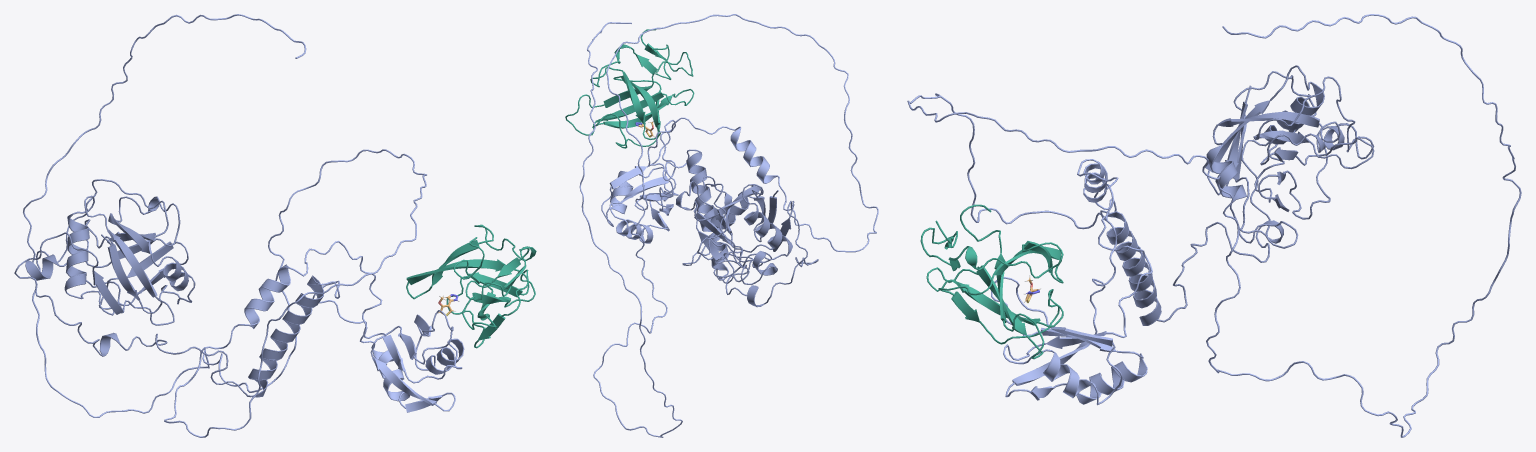
Rendered from negctrl_no_crbn_ppil4_arm.glb.
3 renders of one model, left to right at view 1: azimuth 30°, elevation 25°; view 2: azimuth 150°, elevation 25°; view 3: azimuth 270°, elevation 25°, orthographic. The views are drawn at different scales.
Visible parts, largest first — view 1: node-geom33, node-geom34; view 2: node-geom33, node-geom34; view 3: node-geom33, node-geom34.
Boxes of the visible parts, x1,y1,x2,y2 form: node-geom33: (14, 179, 536, 397); node-geom34: (23, 14, 464, 437); node-geom33: (565, 29, 818, 307); node-geom34: (579, 14, 878, 437); node-geom33: (920, 65, 1374, 359); node-geom34: (907, 14, 1521, 437).
Bounding box in the file's own units: 109 × 105 × 127.
